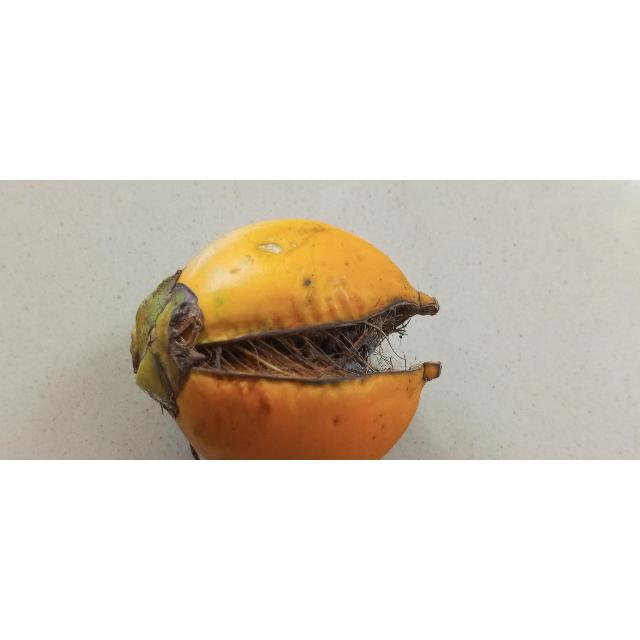damaged: (130, 219, 442, 461)
